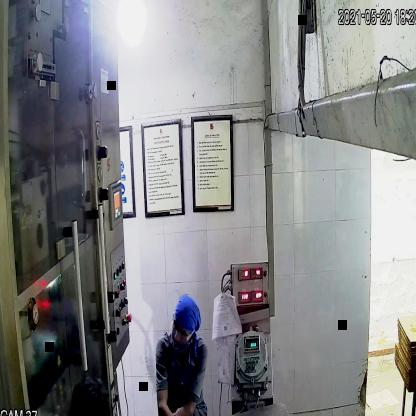goggles: (166, 316, 200, 346)
